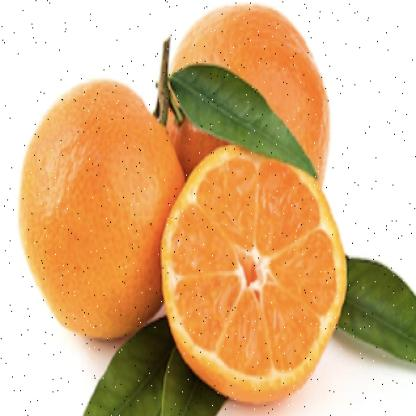fresh: (26, 6, 346, 405)
